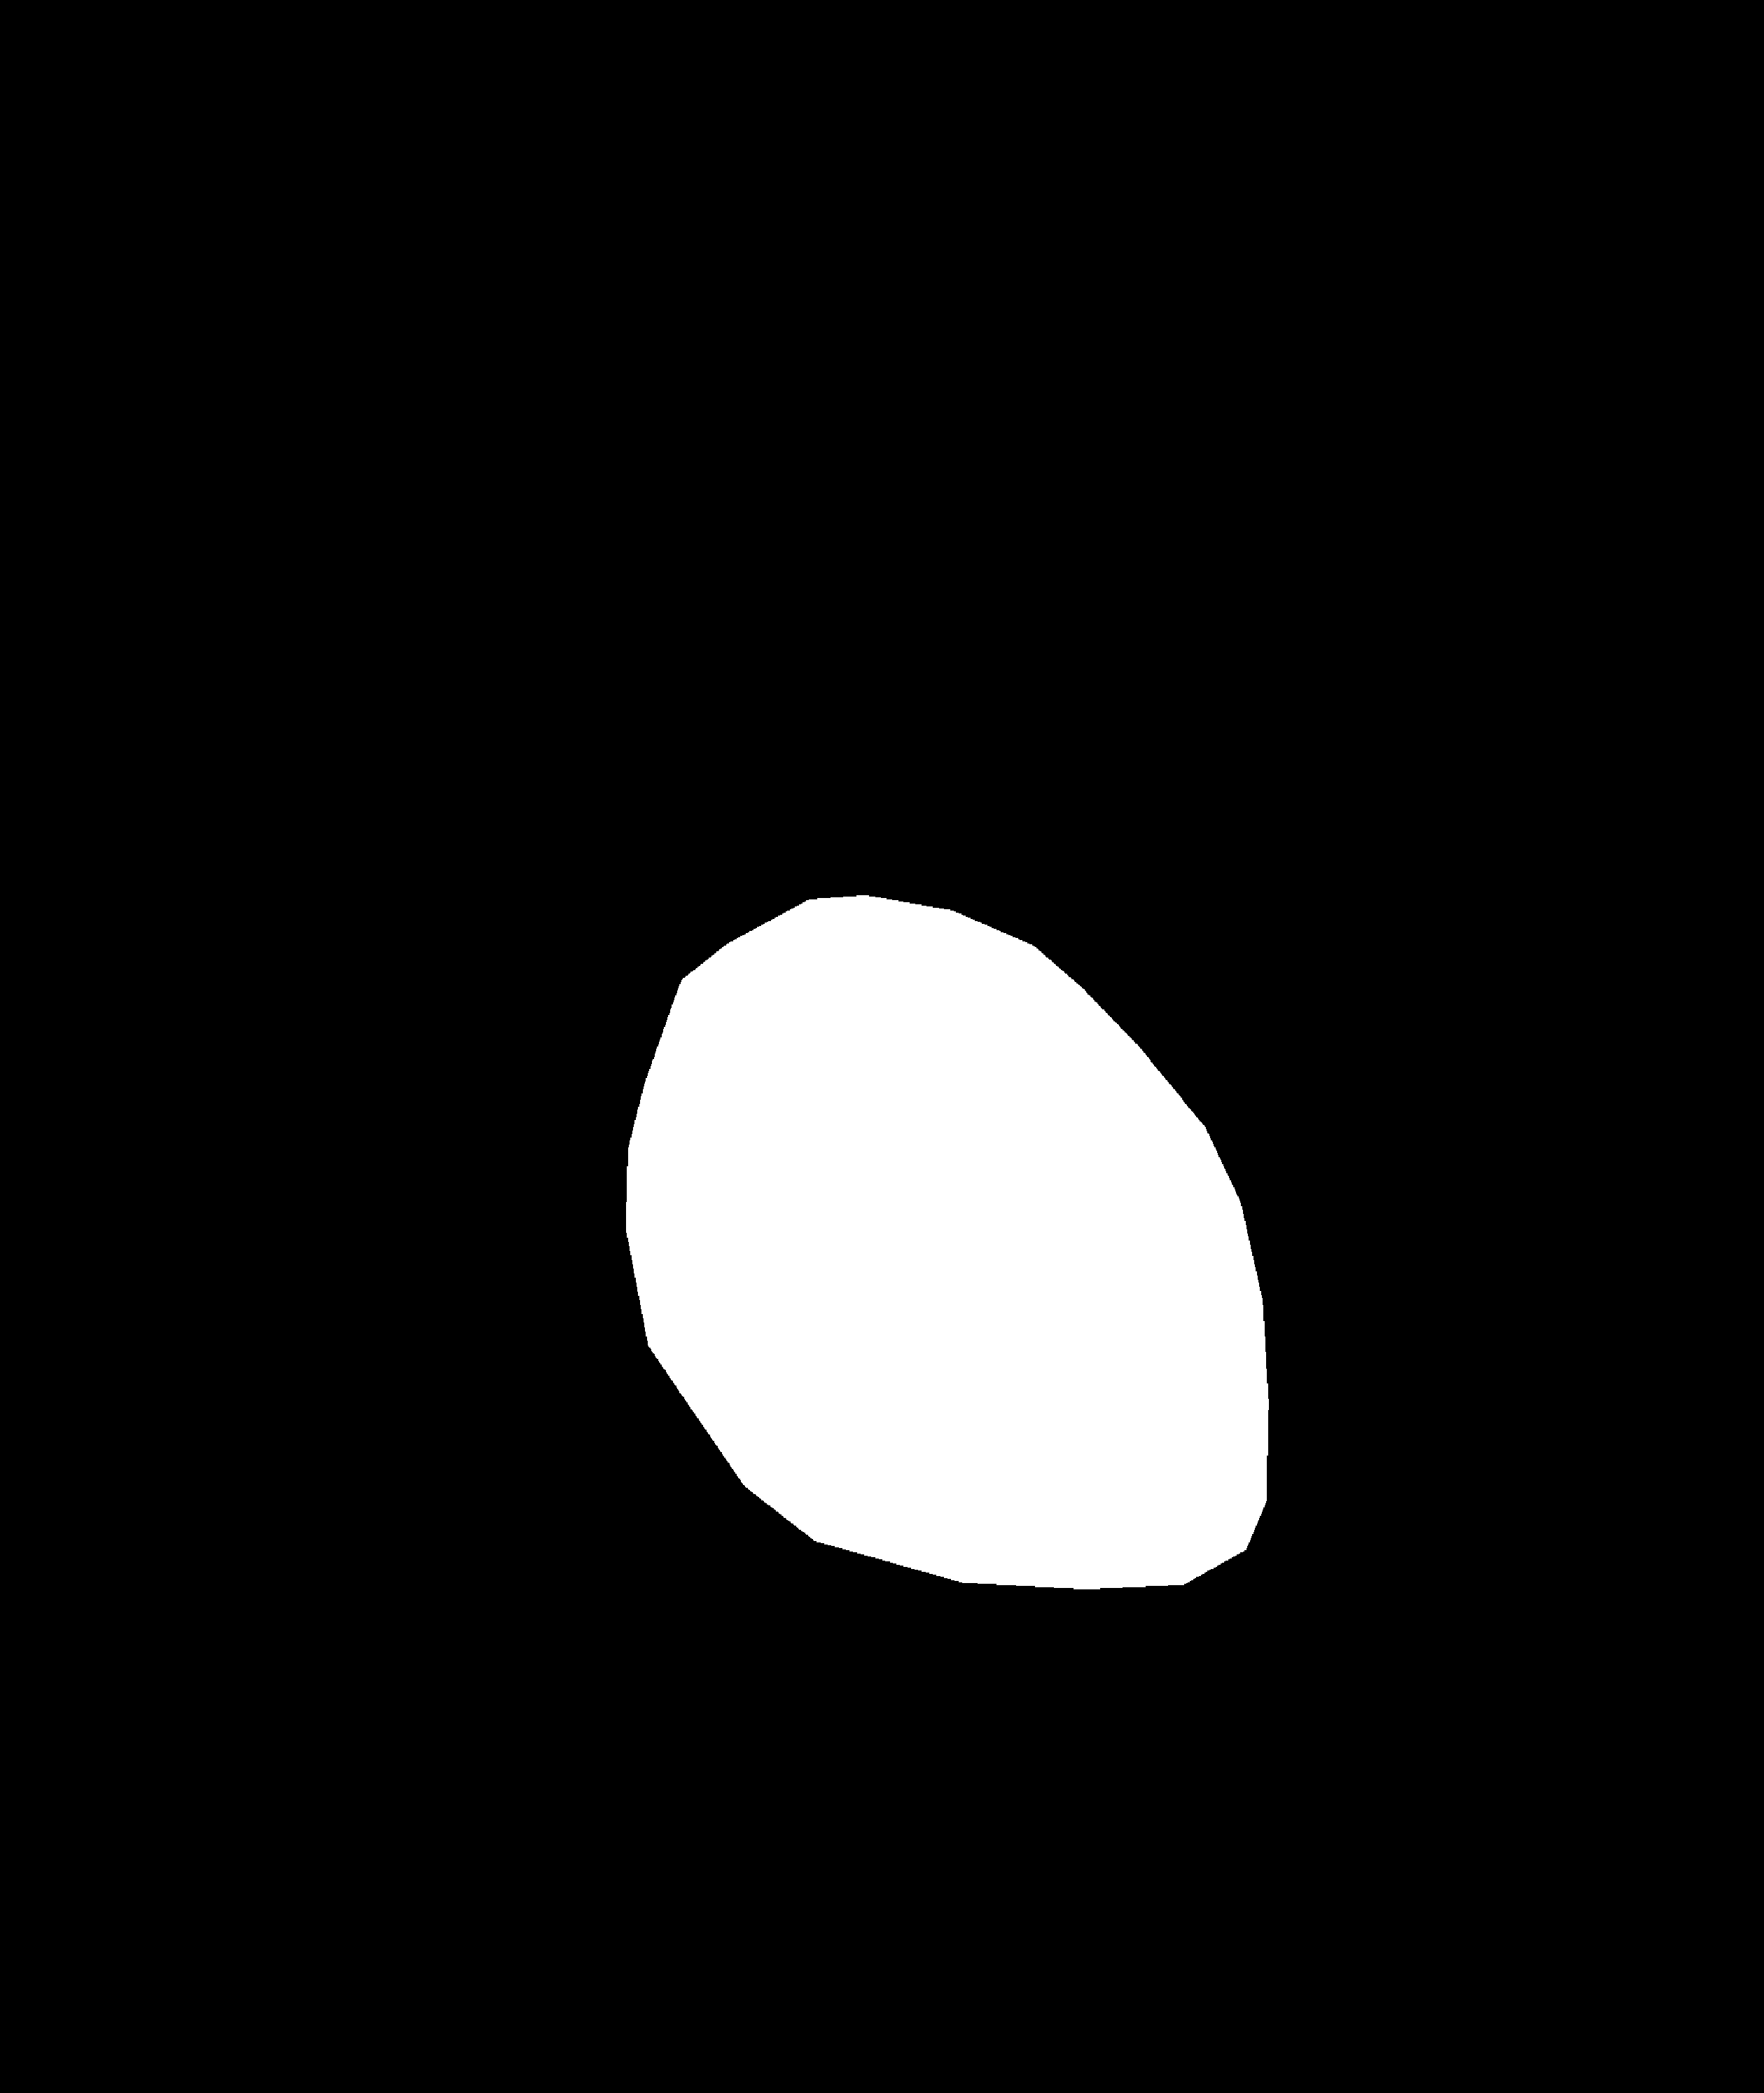heart: (621, 942, 1267, 1559)
left_lung: (187, 317, 784, 1813)
right_lung: (978, 292, 1578, 1787)
